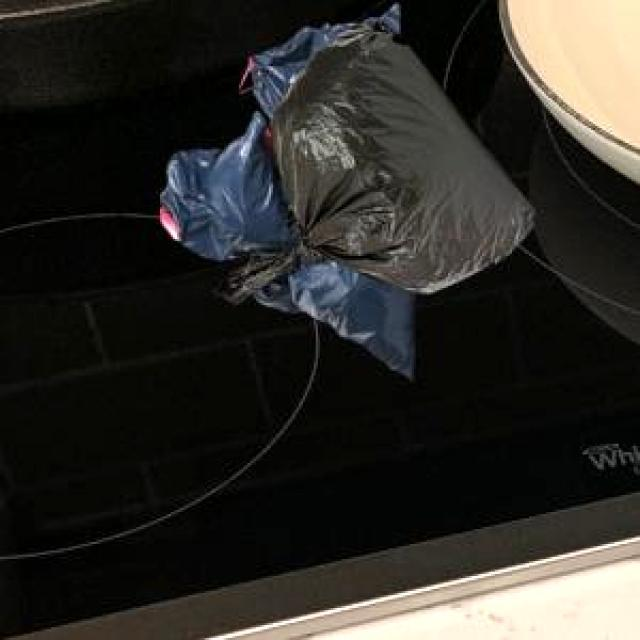Garbage_Bag: (158, 1, 412, 377), (210, 18, 528, 300)
